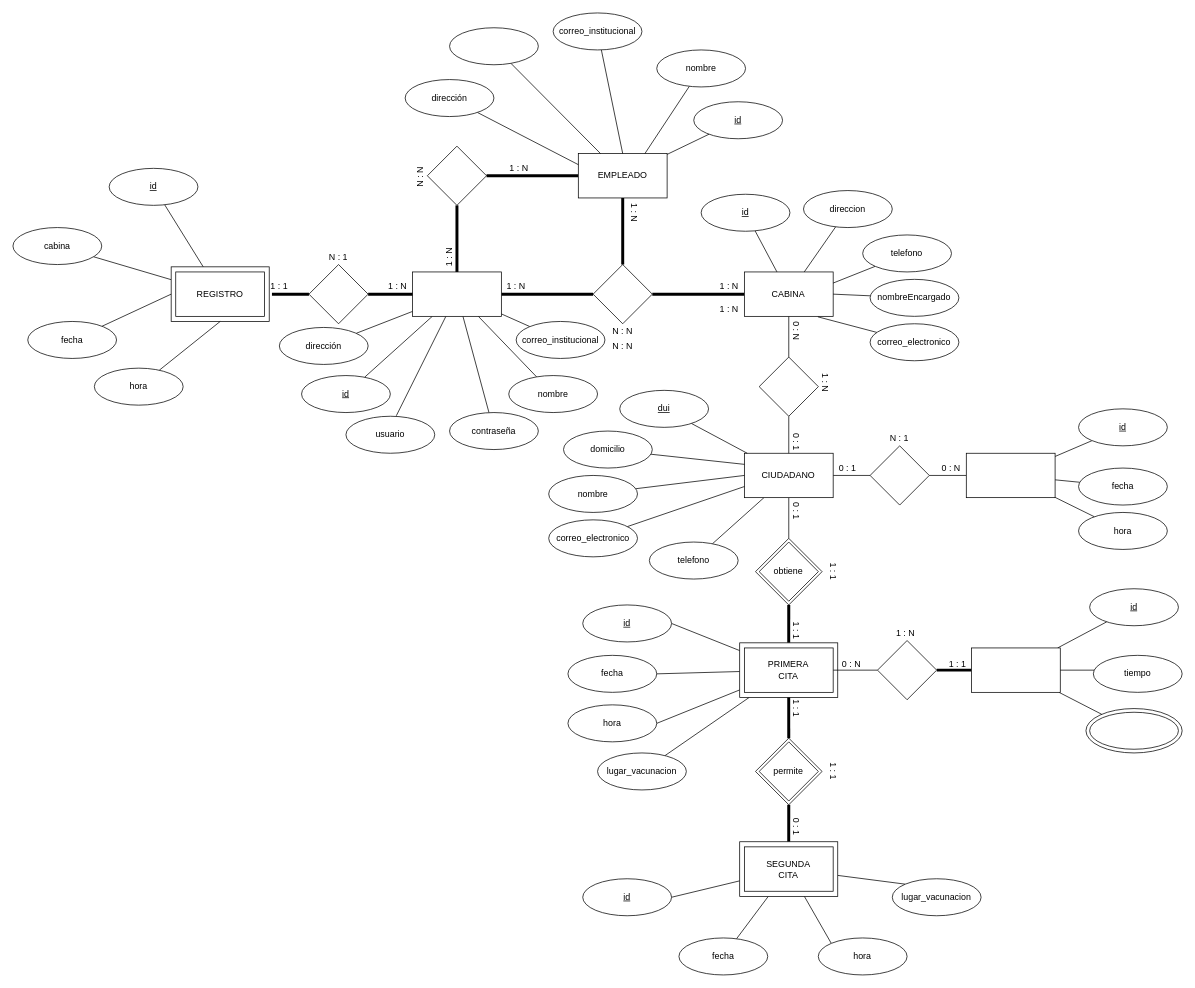
Some shapes in this 1195 by 988 pixel diagram are drawn without their labels. Here are the shapes that lost their labels. From the top down, the box of each, then its label:
(449, 27, 538, 65): tipo_empleado
(427, 145, 487, 205): trabaja
(308, 264, 368, 324): realiza
(412, 271, 501, 316): GESTOR
(592, 264, 652, 324): gestiona
(758, 356, 818, 416): atiende
(869, 445, 929, 505): aguarda
(966, 453, 1055, 498): AREA_ESPERA
(877, 640, 937, 700): ocasiona
(971, 647, 1060, 692): EFECTO SECUNDARIO
(1089, 712, 1178, 749): efecto_secundario
